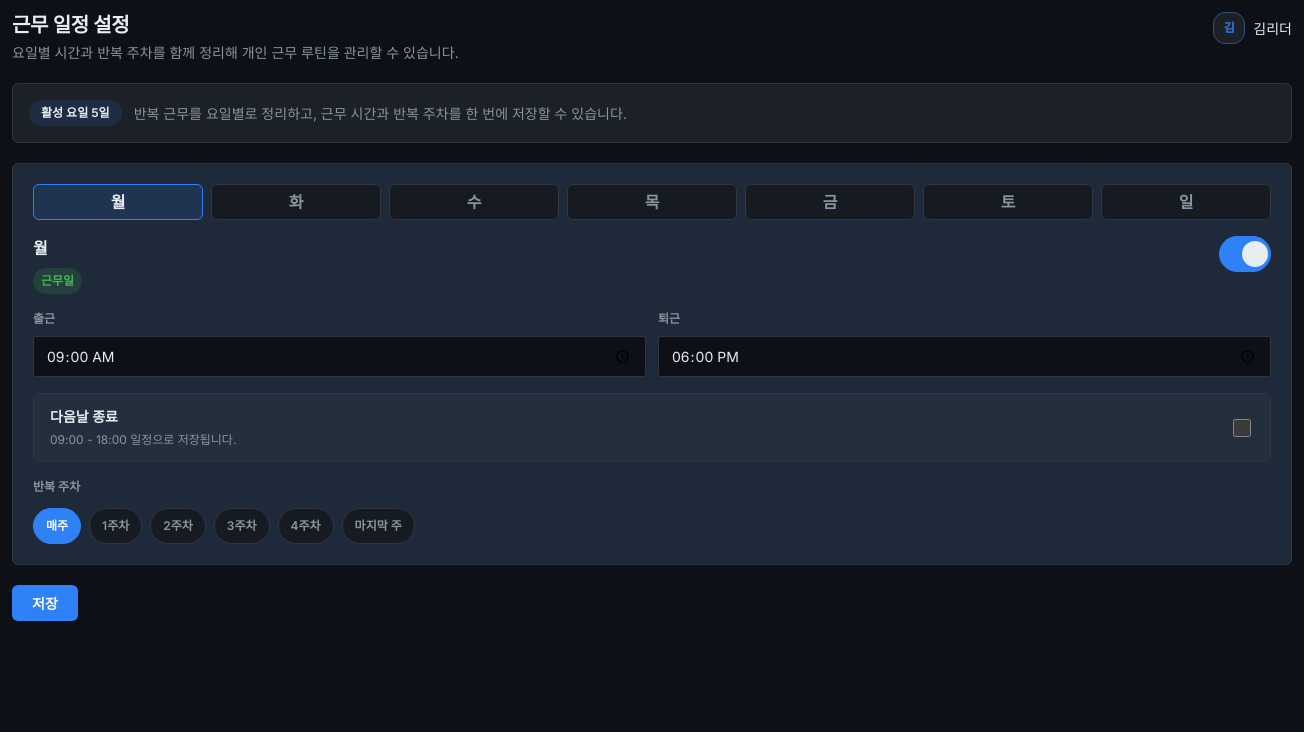
Test: SetWorkDaysPersonal › 비활성 요일을 선택하면 휴무 안내가 표시된다
Expected: the text "출근" is shown, [33,311,55,326]
Click the tab "토": (1008, 202) [923,184,1093,220]
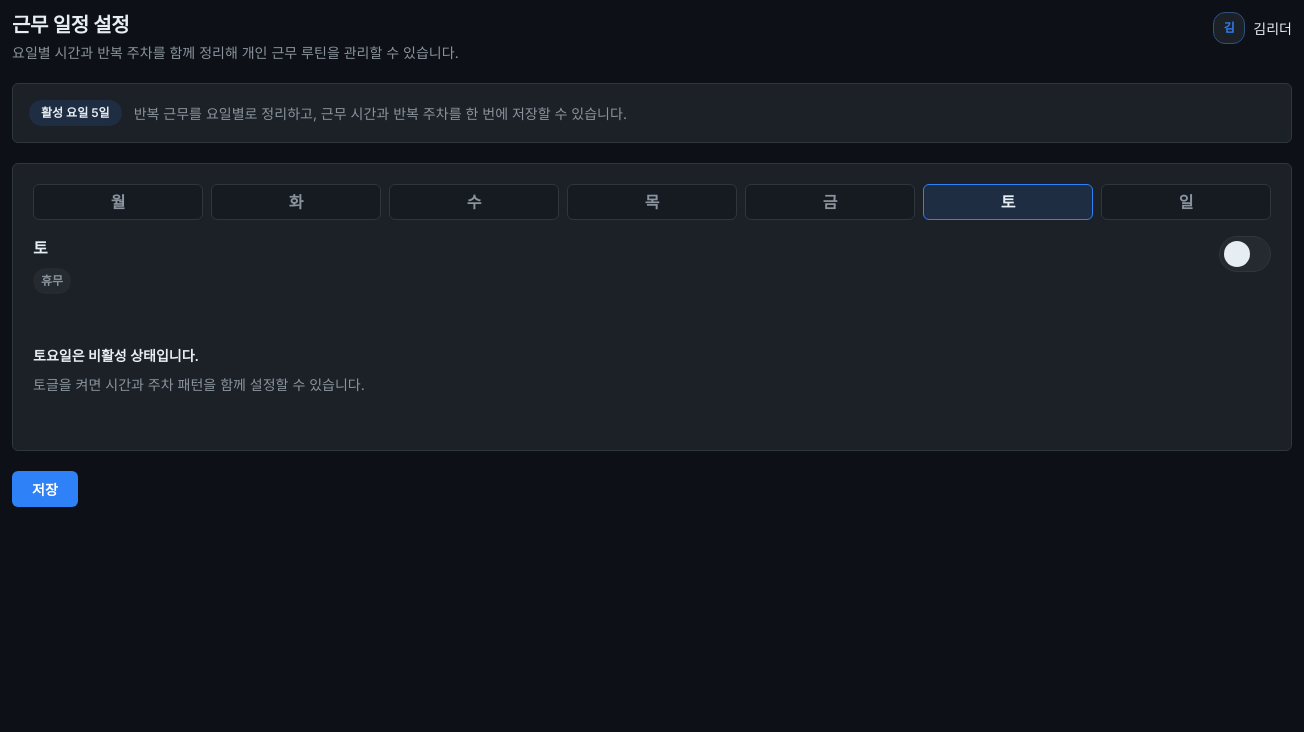
Now the text "토요일은 비활성 상태입니다." is shown, box [33,347,199,364]
